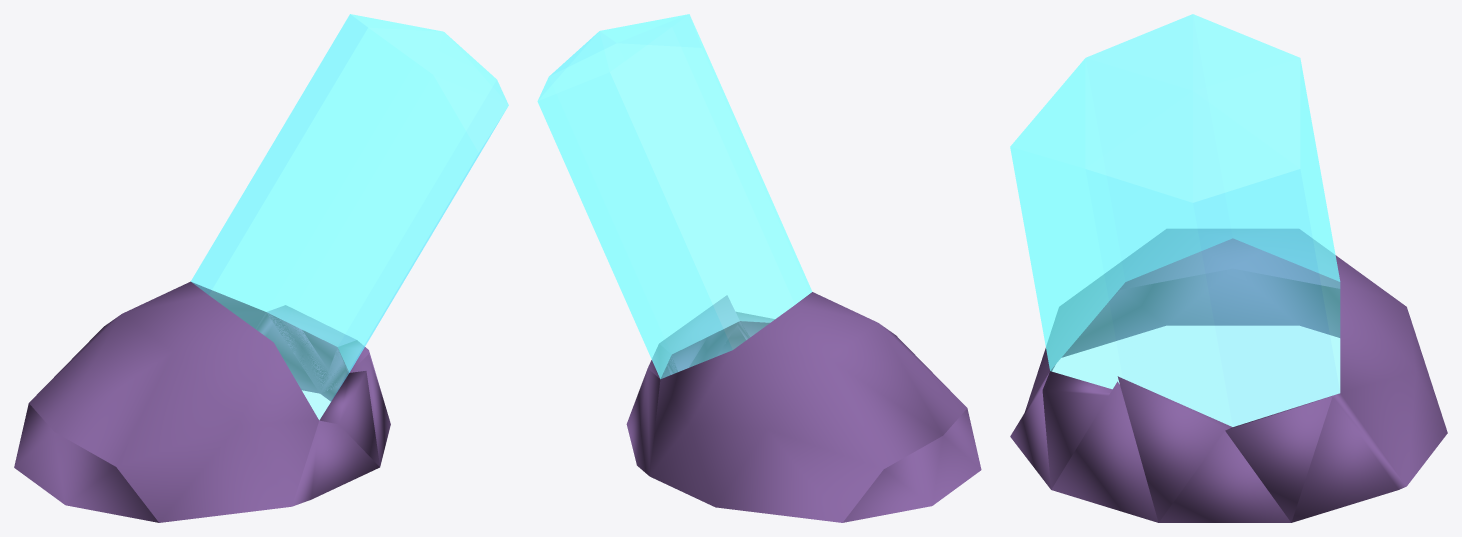
File: crystal_1.fbx
3 views of the same model, side by side, from view 1: azimuth 30°, elevation 25°; view 2: azimuth 150°, elevation 25°; view 3: azimuth 270°, elevation 25° (orthographic). The views are drawn at different scales.
Visible parts, largest first — view 1: Ground, Crystal; view 2: Ground, Crystal; view 3: Crystal, Ground.
Part boxes in pixels (x1,y1,x2,y2): Ground: [14, 281, 390, 522]; Crystal: [191, 14, 508, 419]; Ground: [626, 292, 981, 522]; Crystal: [537, 14, 812, 378]; Crystal: [1010, 14, 1340, 426]; Ground: [1010, 229, 1447, 522].
Bounding box in the file's own units: 307 × 262 × 204.
